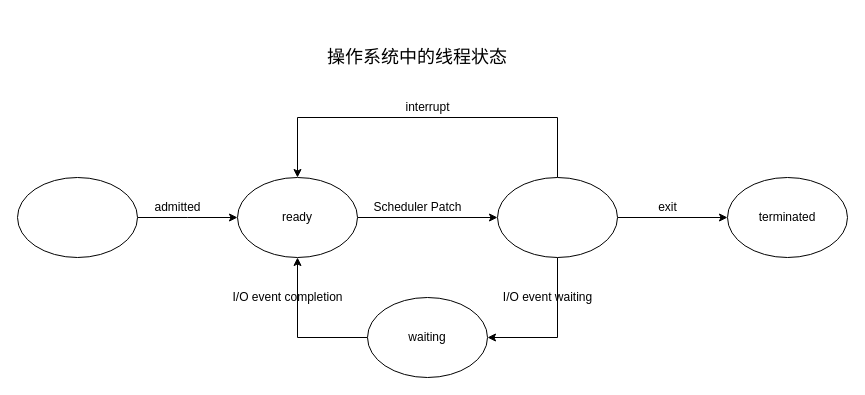
The diagram is 865 pixels wide and 395 high, and some of its shapes have lost their labels. The shapes that lost their labels are listed below. From the top down, each one's box as (x1, y1, x2, y2) in pixels, then its label:
(16, 176, 138, 258): new
(496, 176, 618, 258): running
